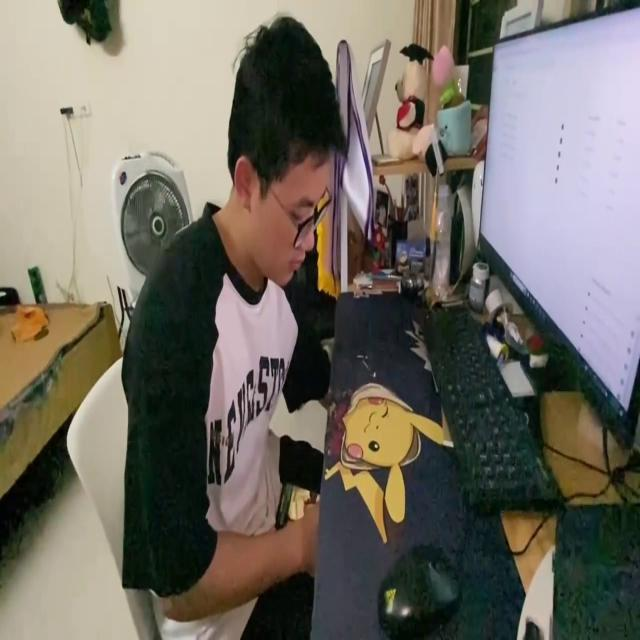laptop: (474, 4, 640, 456)
phone: (279, 472, 320, 524)
student: (122, 9, 338, 640)
